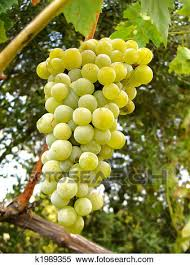grapes: (34, 39, 154, 235)
